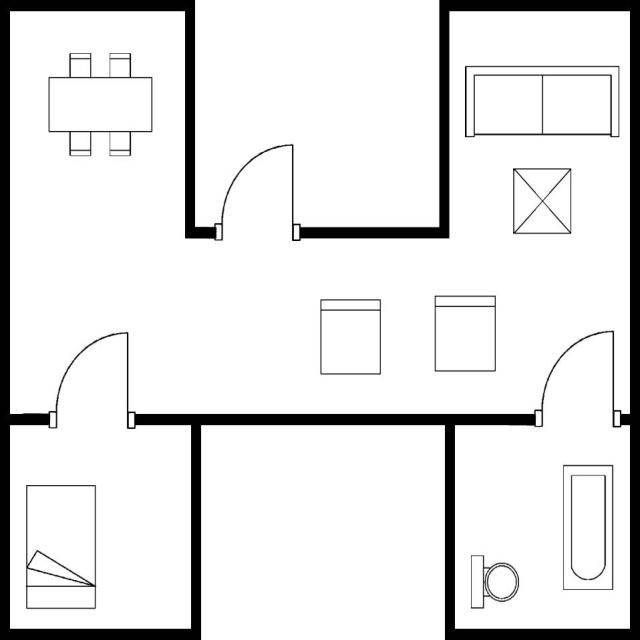bed: (20, 481, 100, 613)
coffee_table: (507, 162, 575, 238)
dining_table: (42, 46, 158, 160)
large_sink: (467, 550, 522, 614)
large_sofa: (461, 61, 622, 141)
small_sofa: (429, 292, 501, 376), (314, 295, 384, 379)
tub: (558, 459, 618, 594)
